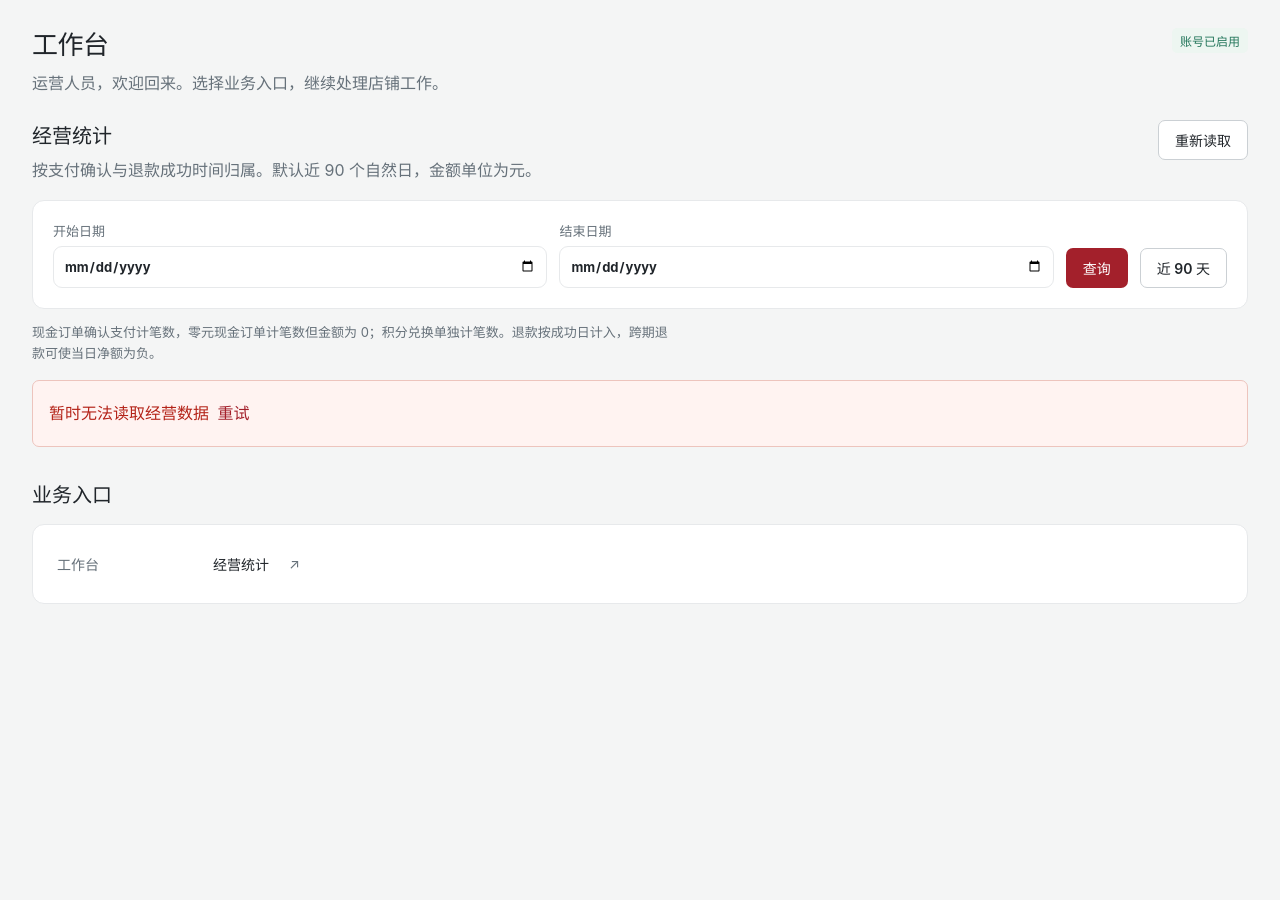
Scenario: uses the real report on the workbench and supports retry after failure
Expected: the message "暂时无法读取经营数据 重试" is shown, [32, 380, 1248, 447]
Click the button "重试": (234, 414) [214, 394, 254, 434]
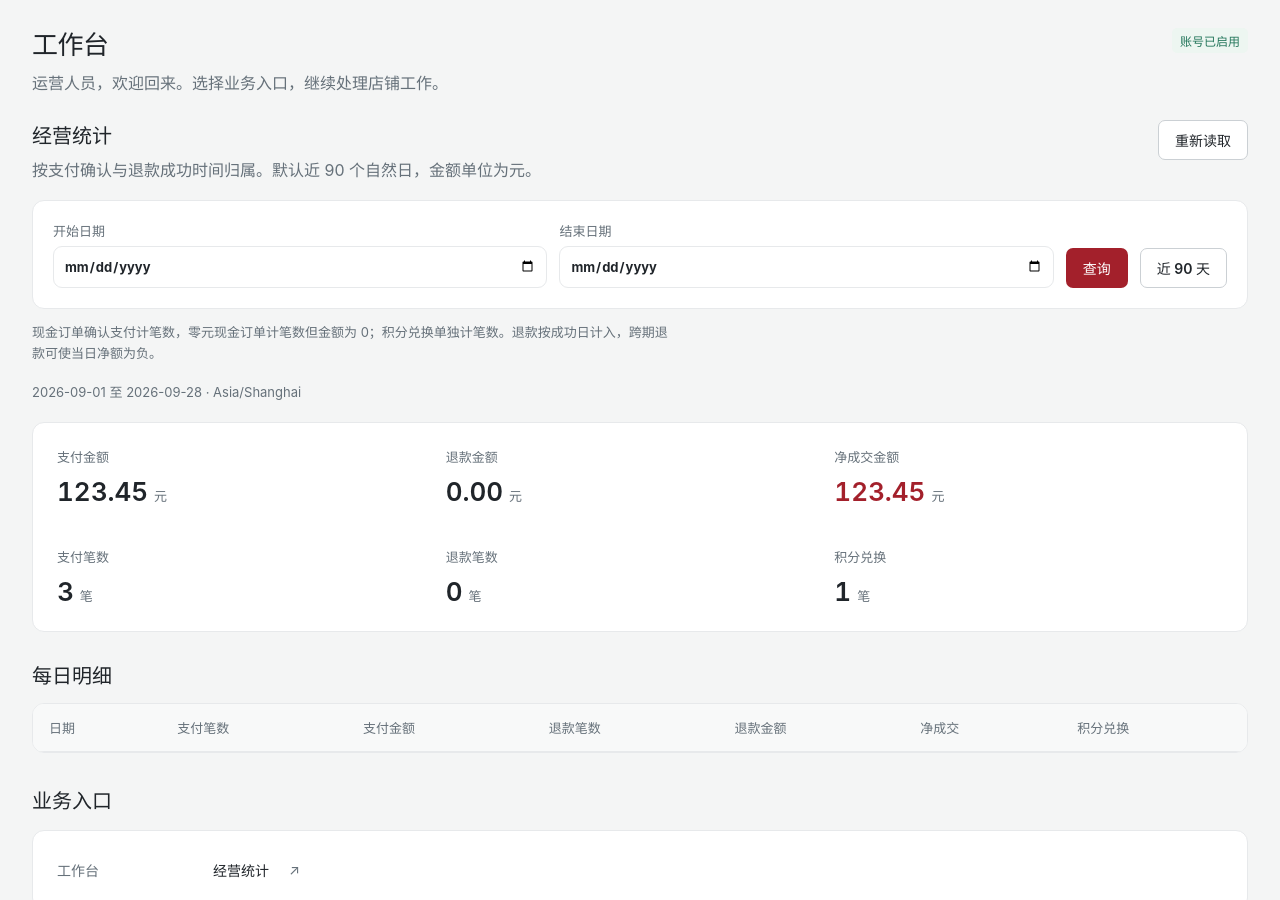
Expected: the text "123.45" is shown, [57, 476, 148, 507]
